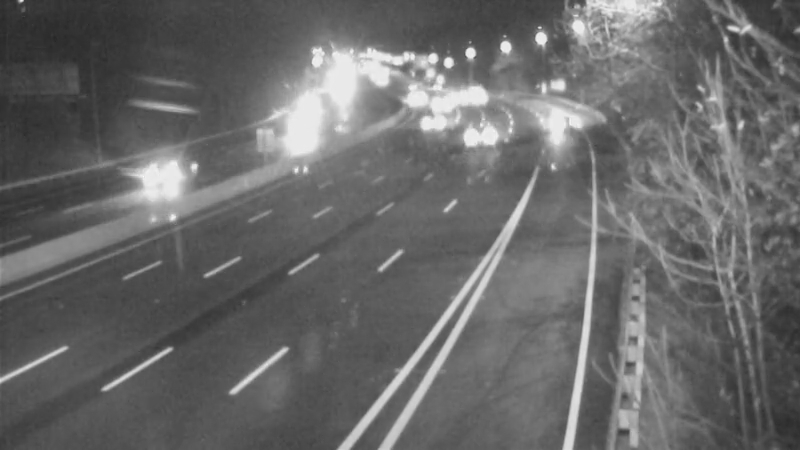vehicle: (131, 140, 211, 220), (391, 71, 441, 121), (415, 79, 465, 129), (528, 103, 578, 153), (406, 97, 456, 147), (448, 115, 498, 165), (271, 104, 321, 154)
